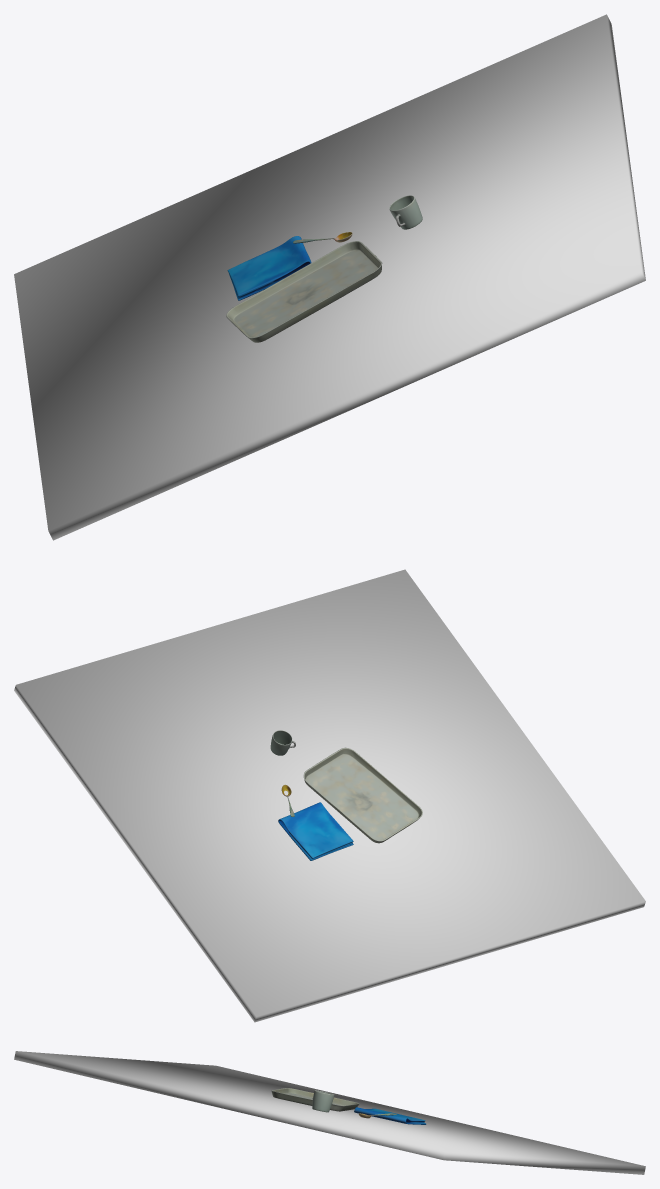
File: rest3d.glb
3 views of the same model, one above another, from view 1: azimuth 30°, elevation 25°; view 2: azimuth 150°, elevation 25°; view 3: azimuth 270°, elevation 25° (orthographic). The views are drawn at different scales.
Parts seen in each view (by area): view 1: ground, World; view 2: ground, World; view 3: ground, World.
Part boxes in pixels (x1,y1,x2,y2): ground: [14, 14, 645, 540]; World: [226, 195, 422, 342]; ground: [14, 569, 645, 1022]; World: [270, 730, 422, 860]; ground: [14, 1051, 645, 1174]; World: [271, 1088, 426, 1124].
Bounding box in the file's own units: 3.53 × 1.25 × 3.56.
